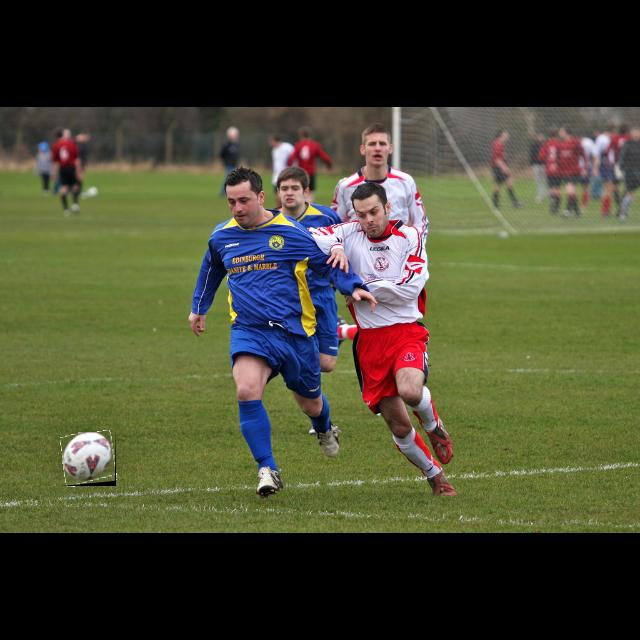Football: (62, 432, 116, 486)
